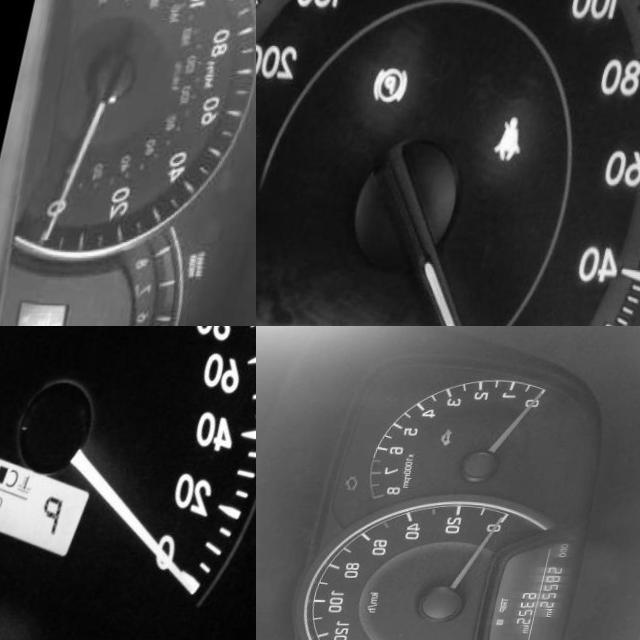Seat Belt: (506, 111, 542, 158)
